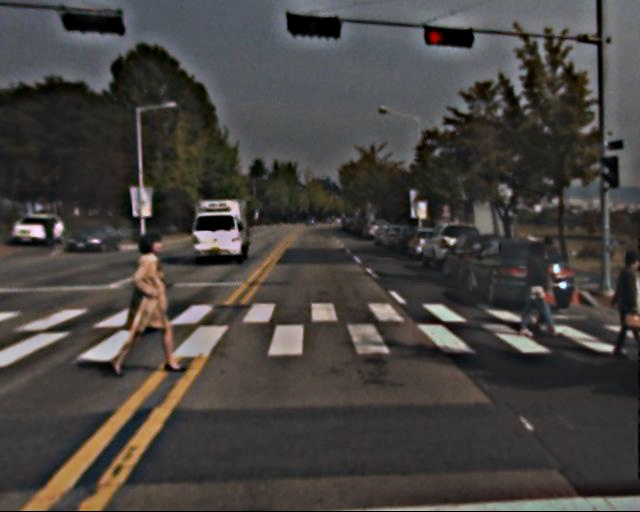person: (122, 232, 179, 372), (520, 240, 559, 335), (609, 250, 640, 358), (45, 218, 56, 244)
